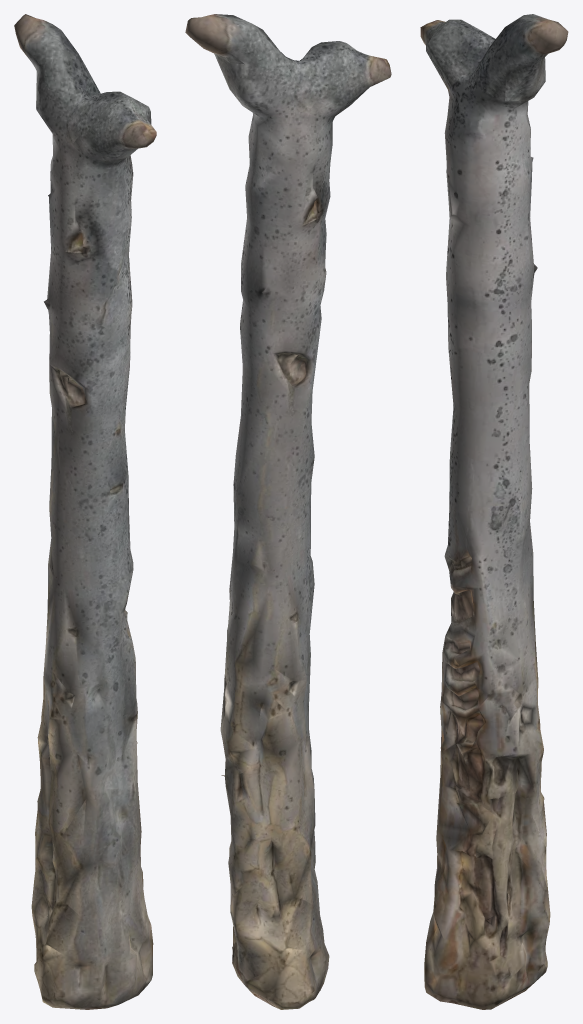
File: dead_quiver_trunk.glb
The picture shows the model from 3 angles, left to right: view 1: azimuth 90°, elevation 25°; view 2: azimuth 150°, elevation 25°; view 3: azimuth 270°, elevation 25°; orthographic projection. The views are drawn at different scales.
Parts seen in each view (by area): view 1: dead_quiver_trunk_LOD0; view 2: dead_quiver_trunk_LOD0; view 3: dead_quiver_trunk_LOD0.
Boxes of the visible parts, box(x1,y1,x2,y2) form: dead_quiver_trunk_LOD0: box(14, 14, 156, 1009); dead_quiver_trunk_LOD0: box(185, 14, 391, 1009); dead_quiver_trunk_LOD0: box(420, 14, 568, 1009).
Size of the model in its own units: 0.3053 by 1.99 by 0.2681.
Materials: 1 (1 with a texture image).
